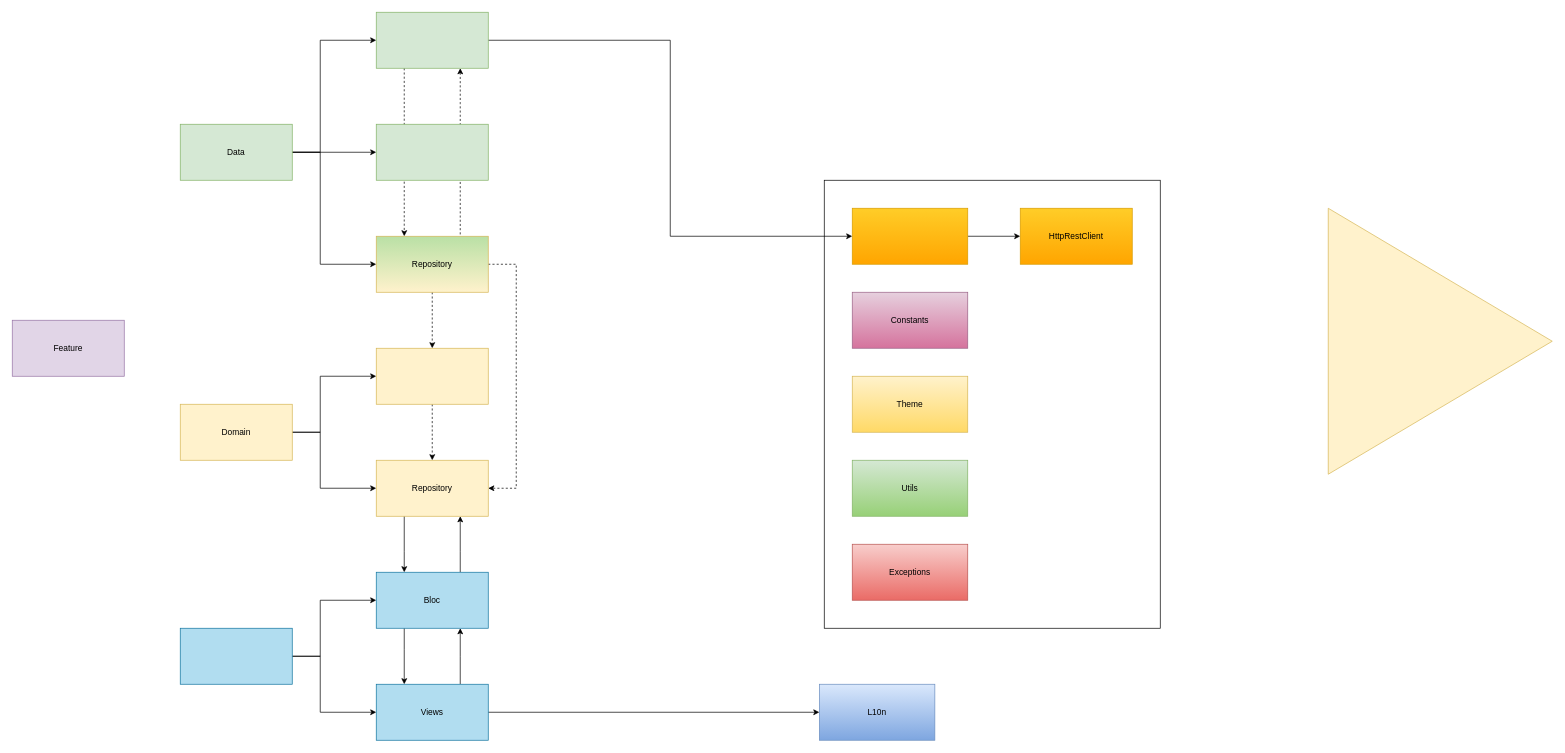
Some shapes in this 1565 by 753 pixel diagram are drawn without their labels. The centre of each missing label's shape, as x and y in pixels:
"Data source" belongs at (x=432, y=40).
"DTO" belongs at (x=432, y=152).
"Entity" belongs at (x=432, y=376).
"Get it" belongs at (x=1440, y=341).
"Presentation" belongs at (x=236, y=656).
"RestClient" belongs at (x=910, y=236).
